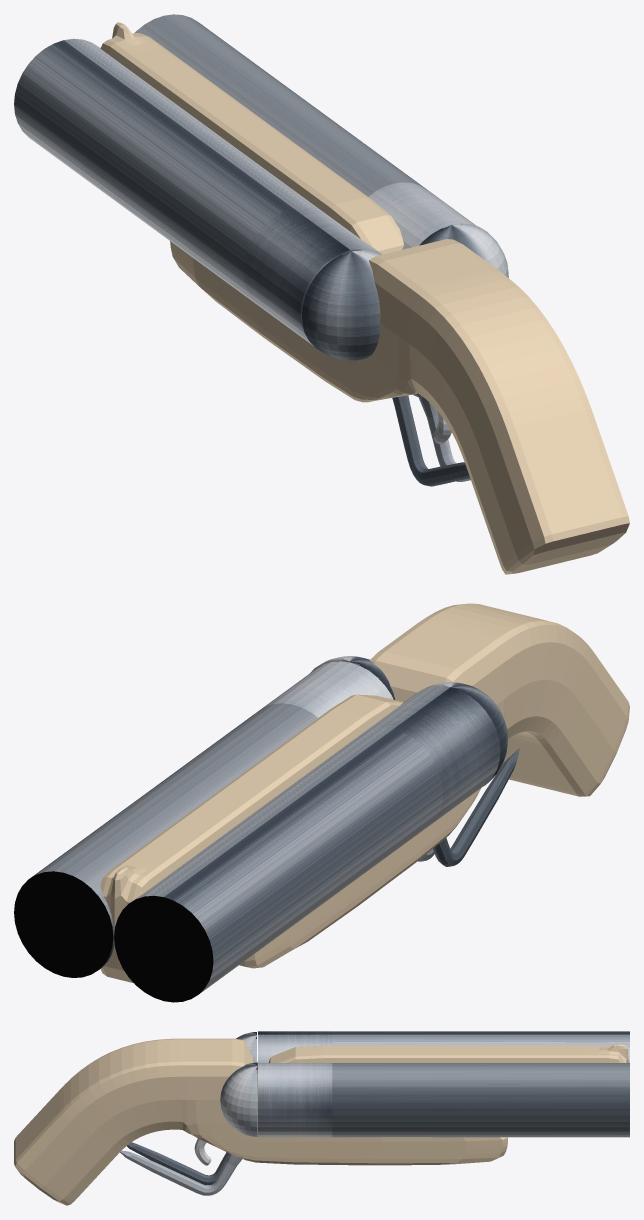
The model's file is Shotgun.fbx.
The picture shows the model from 3 angles, top to bottom: view 1: azimuth 30°, elevation 25°; view 2: azimuth 150°, elevation 25°; view 3: azimuth 270°, elevation 25°; orthographic projection. The views are drawn at different scales.
Visible parts, largest first — view 1: Cube, barrel two, barrel one, Cube.001, Sphere; view 2: barrel two, Cube, barrel one, Cube.001, Sphere; view 3: Cube, barrel one, Cube.001, barrel two, Sphere.
Part boxes in pixels (box(x1,y1,x2,y2)): Cube: box(170, 239, 629, 574); barrel two: box(14, 38, 382, 345); barrel one: box(134, 14, 476, 249); Cube.001: box(100, 22, 403, 254); Sphere: box(301, 223, 508, 360); barrel two: box(114, 685, 500, 1002); Cube: box(239, 603, 629, 968); barrel one: box(14, 661, 393, 977); Cube.001: box(100, 694, 403, 983); Sphere: box(310, 656, 507, 786); Cube: box(14, 1038, 507, 1205); barrel one: box(258, 1063, 629, 1137); Cube.001: box(268, 1044, 628, 1062); barrel two: box(258, 1031, 629, 1062); Sphere: box(220, 1032, 257, 1136).
Size of the model in its own units: 403 by 442 by 1655.
